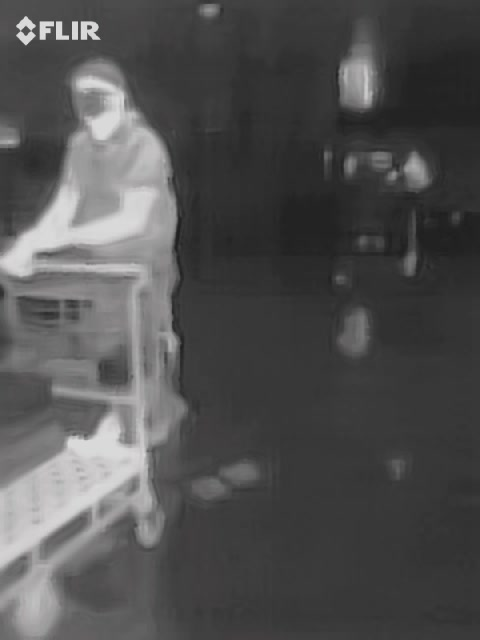head: (73, 65, 126, 127)
